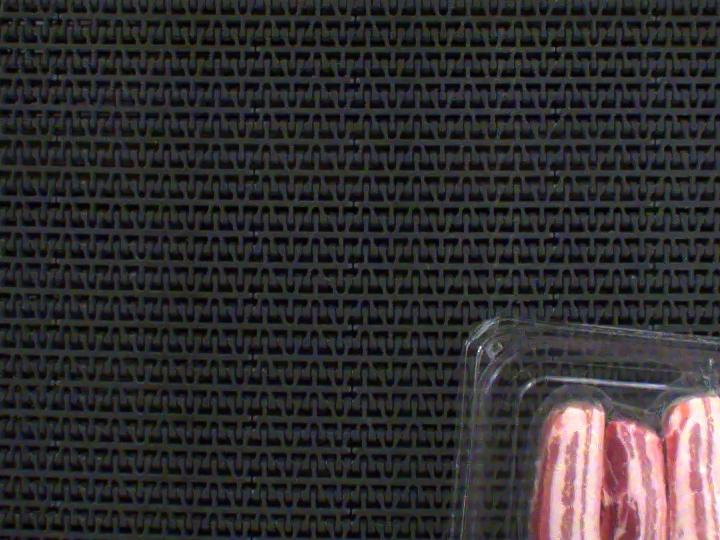unsealed: (520, 348, 720, 491)
